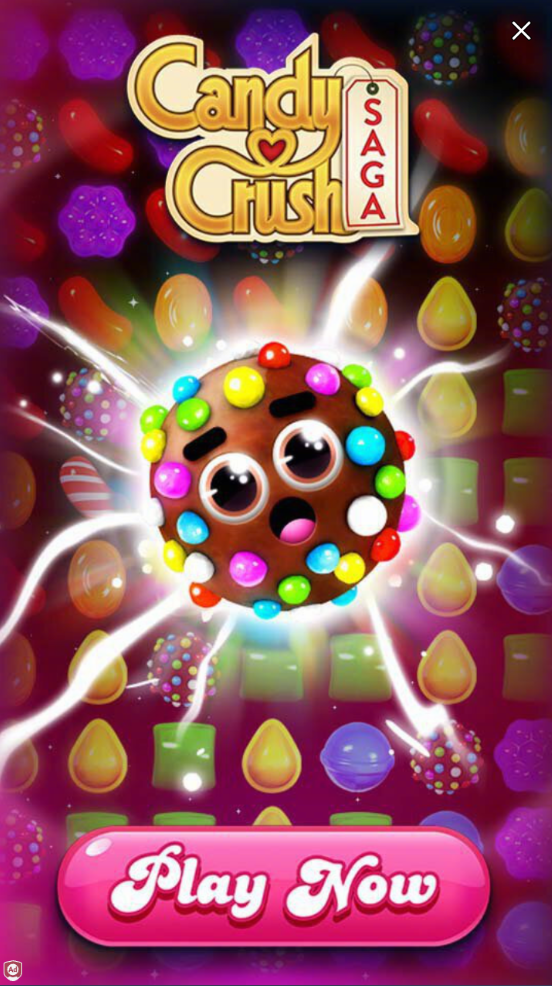close_button: (506, 17, 536, 46)
